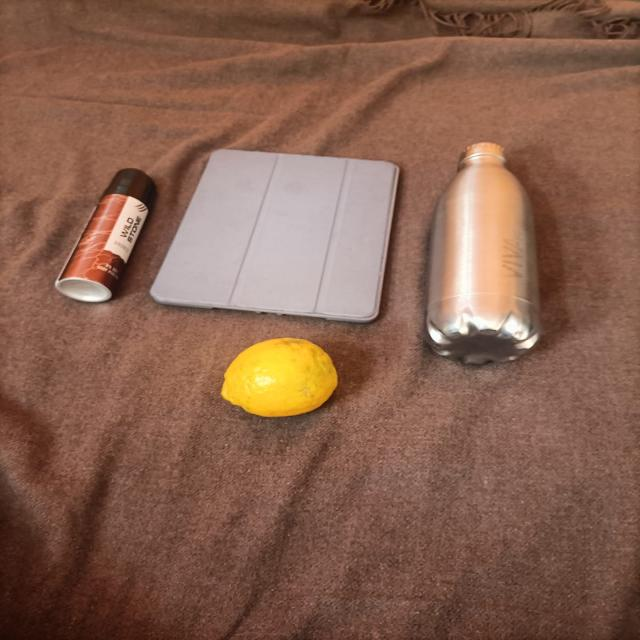bottle: (414, 131, 562, 383)
orange: (202, 336, 355, 430)
spray: (27, 145, 161, 320)
tablet: (148, 108, 412, 335)
